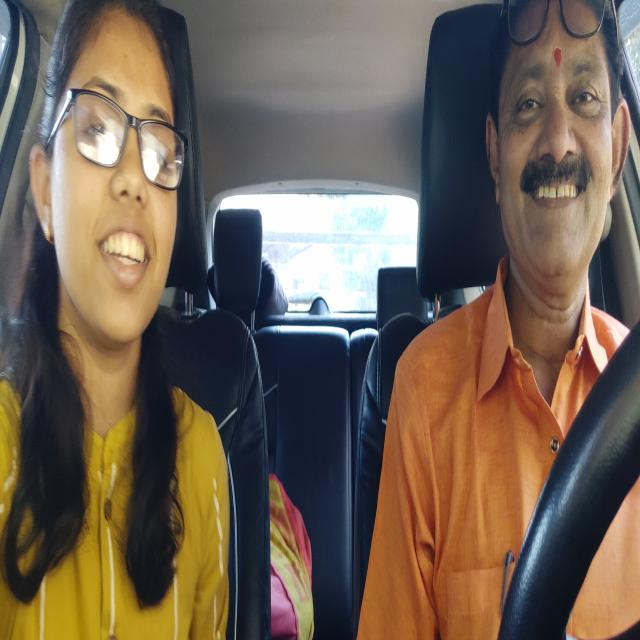person: (30, 0, 195, 358), (474, 0, 631, 296)
